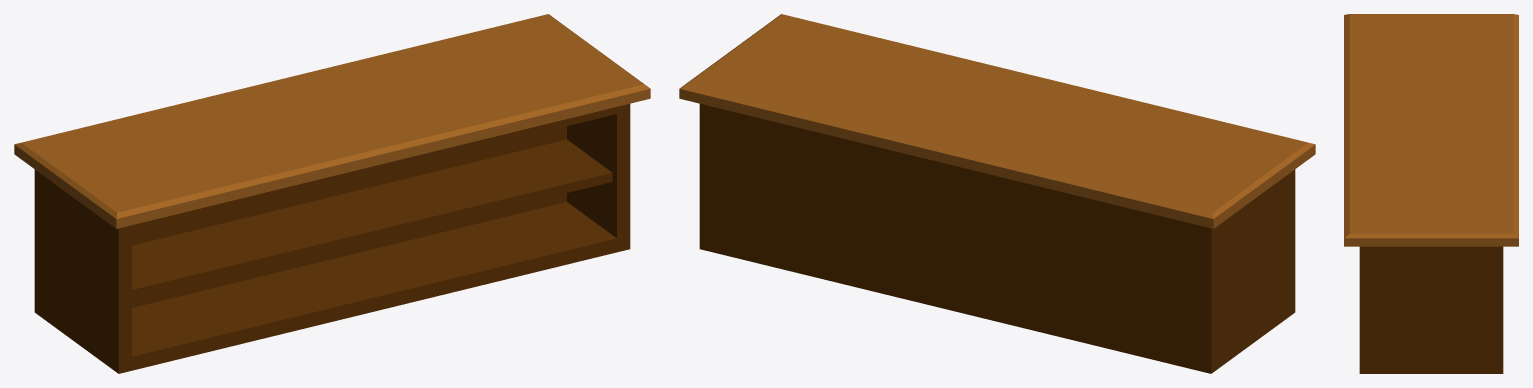
The model's file is counter.fbx.
3 views of the same model, side by side, from view 1: azimuth 30°, elevation 25°; view 2: azimuth 150°, elevation 25°; view 3: azimuth 270°, elevation 25° (orthographic). The views are drawn at different scales.
Visible parts, largest first — view 1: Cube; view 2: Cube; view 3: Cube.
Part boxes in pixels (bbox=[...]): Cube: bbox=[14, 14, 650, 373]; Cube: bbox=[679, 14, 1315, 373]; Cube: bbox=[1344, 14, 1518, 373].
Size of the model in its own units: 734 by 220 by 243.
